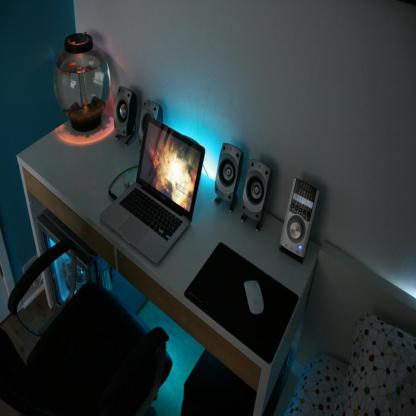board: (100, 114, 206, 268)
